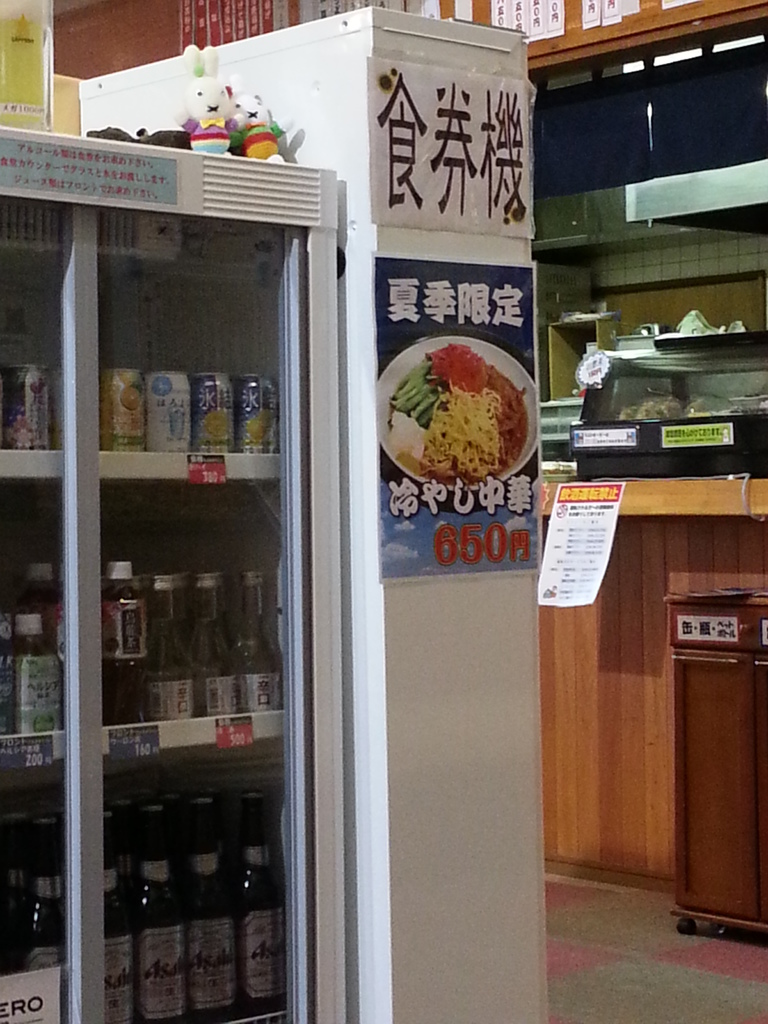cabinet door: (679, 658, 753, 902)
refrigerator door: (90, 229, 302, 1018)
